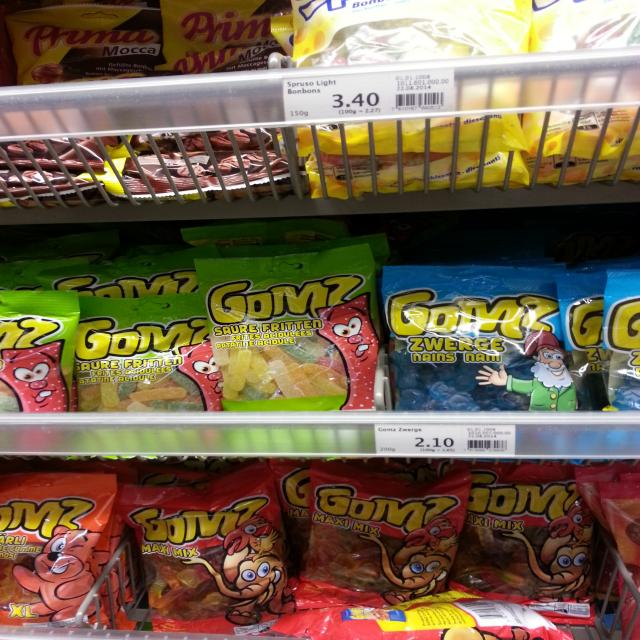Bombons: (289, 0, 529, 147), (115, 463, 293, 636), (196, 244, 377, 409), (383, 266, 579, 410), (305, 460, 468, 602), (463, 474, 593, 626), (0, 470, 116, 630), (77, 296, 224, 411), (0, 290, 78, 418)
